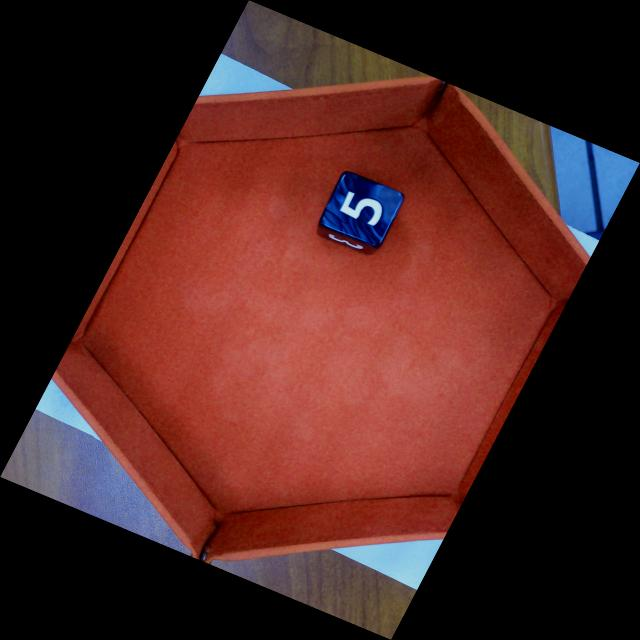dice: (318, 171, 409, 248)
